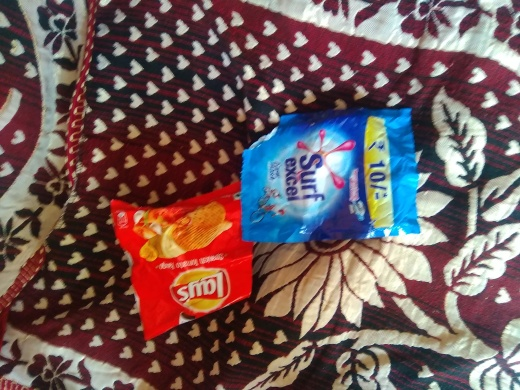lays: (104, 198, 260, 337)
surf: (228, 105, 427, 242)
